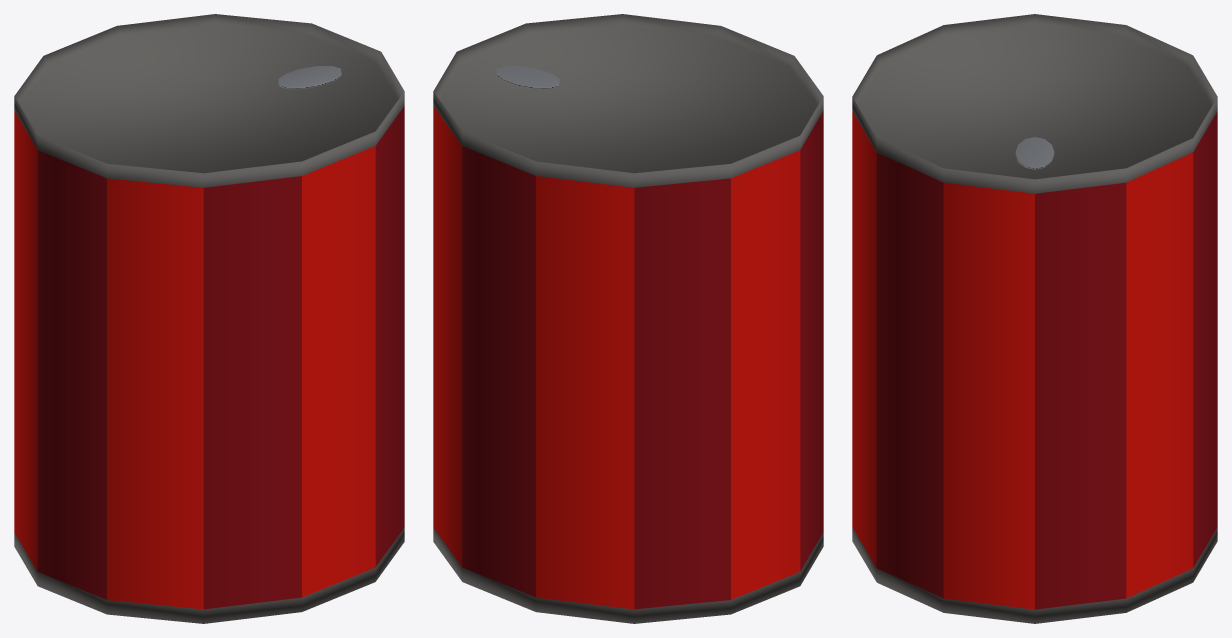
File: Can.fbx
3 renders of one model, left to right at view 1: azimuth 30°, elevation 25°; view 2: azimuth 150°, elevation 25°; view 3: azimuth 270°, elevation 25°, orthographic.
Visible parts, largest first — view 1: Cylinder, Cylinder.001; view 2: Cylinder, Cylinder.001; view 3: Cylinder, Cylinder.001.
Part boxes in pixels (x1,y1,x2,y2): Cylinder: (14,14,404,623); Cylinder.001: (278,66,341,89); Cylinder: (433,14,823,623); Cylinder.001: (496,66,559,89); Cylinder: (852,14,1217,623); Cylinder.001: (1015,137,1054,169).
Bounding box in the file's own units: 214 × 269 × 200.
